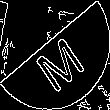M_NW: (25, 21, 85, 89)
